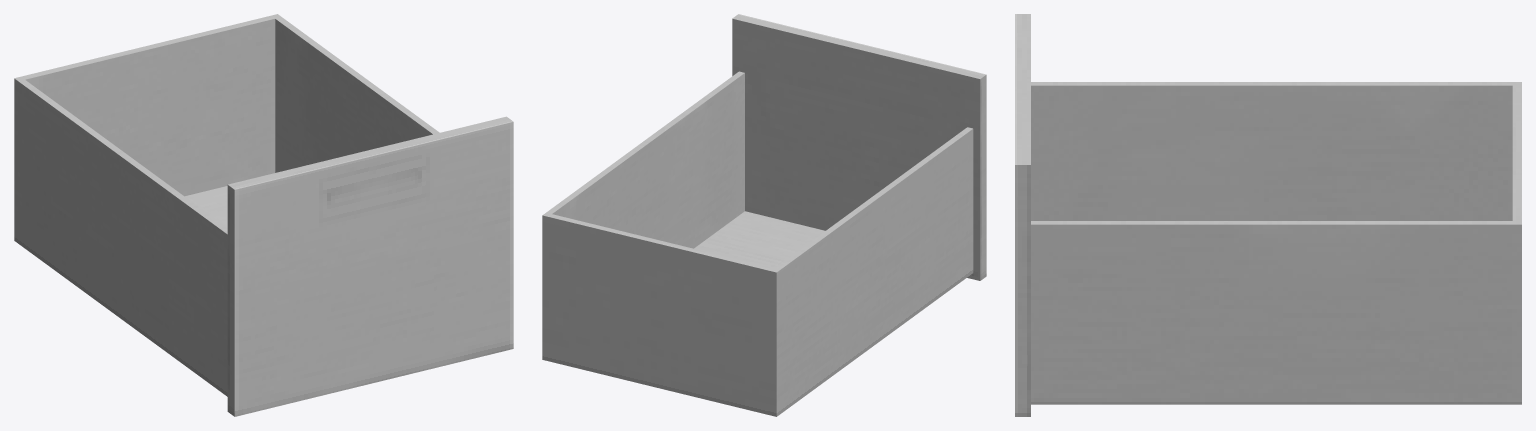
Rendered from DeskDrawer002.glb.
The picture shows the model from 3 angles, left to right: view 1: azimuth 30°, elevation 25°; view 2: azimuth 150°, elevation 25°; view 3: azimuth 270°, elevation 25°; orthographic projection. The views are drawn at different scales.
Parts seen in each view (by area): view 1: desk drawer.002; view 2: desk drawer.002; view 3: desk drawer.002.
Boxes of the visible parts, x1,y1,x2,y2 form: desk drawer.002: (14,14,513,416); desk drawer.002: (542,14,986,416); desk drawer.002: (1015,14,1521,416).
Bounding box in the file's own units: 0.45 × 0.35 × 0.6379.
Materials: 1 (1 with a texture image).
